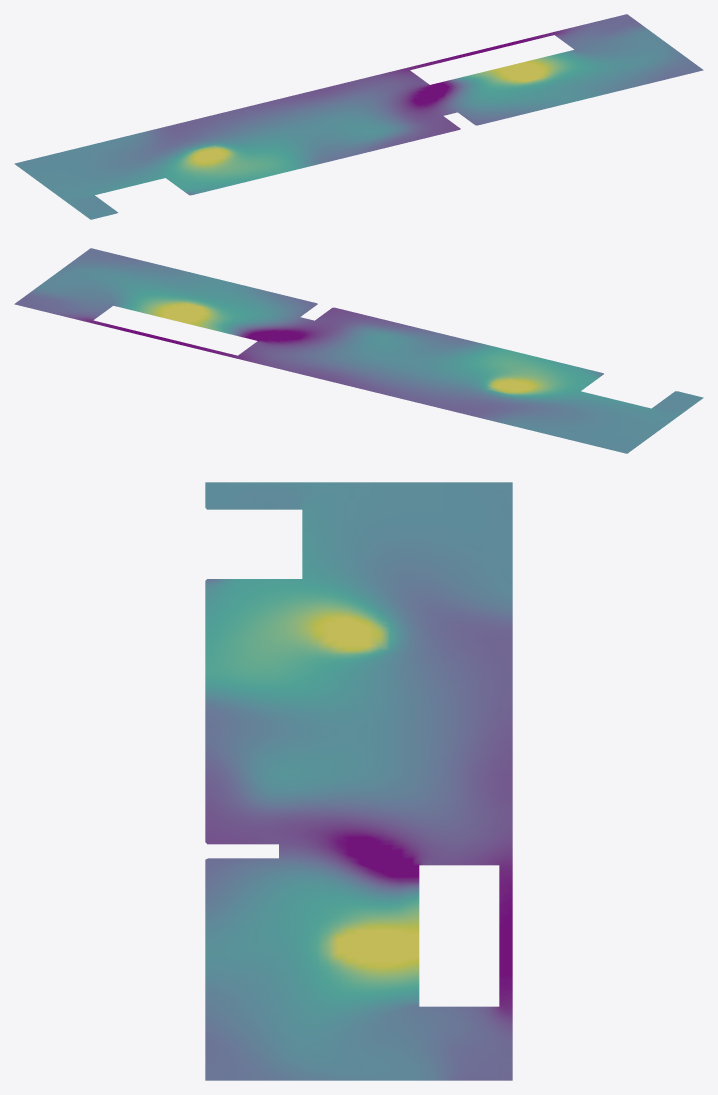
Rendered from fpm_m0_coarse_ke_tr_dCO2_z1.10.glb.
The picture shows the model from 3 angles, top to bottom: view 1: azimuth 30°, elevation 25°; view 2: azimuth 150°, elevation 25°; view 3: azimuth 270°, elevation 25°; orthographic projection. The views are drawn at different scales.
Visible parts, largest first — view 1: geometry_0; view 2: geometry_0; view 3: geometry_0.
Part boxes in pixels (box(x1,y1,x2,y2)): geometry_0: box(14, 14, 703, 219); geometry_0: box(14, 248, 703, 453); geometry_0: box(205, 482, 512, 1080).
Size of the model in its own units: 10.77 by 0 by 2.34.
